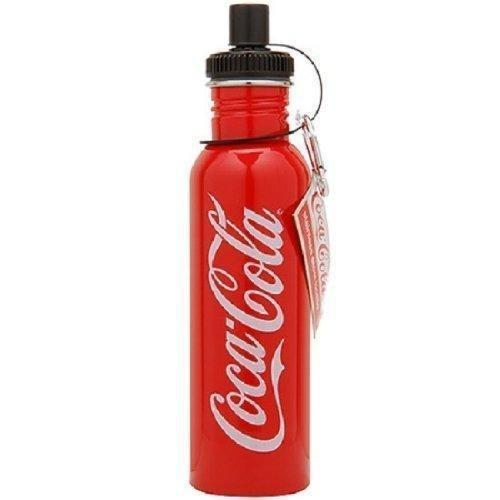gym bottle: (185, 1, 322, 497)
